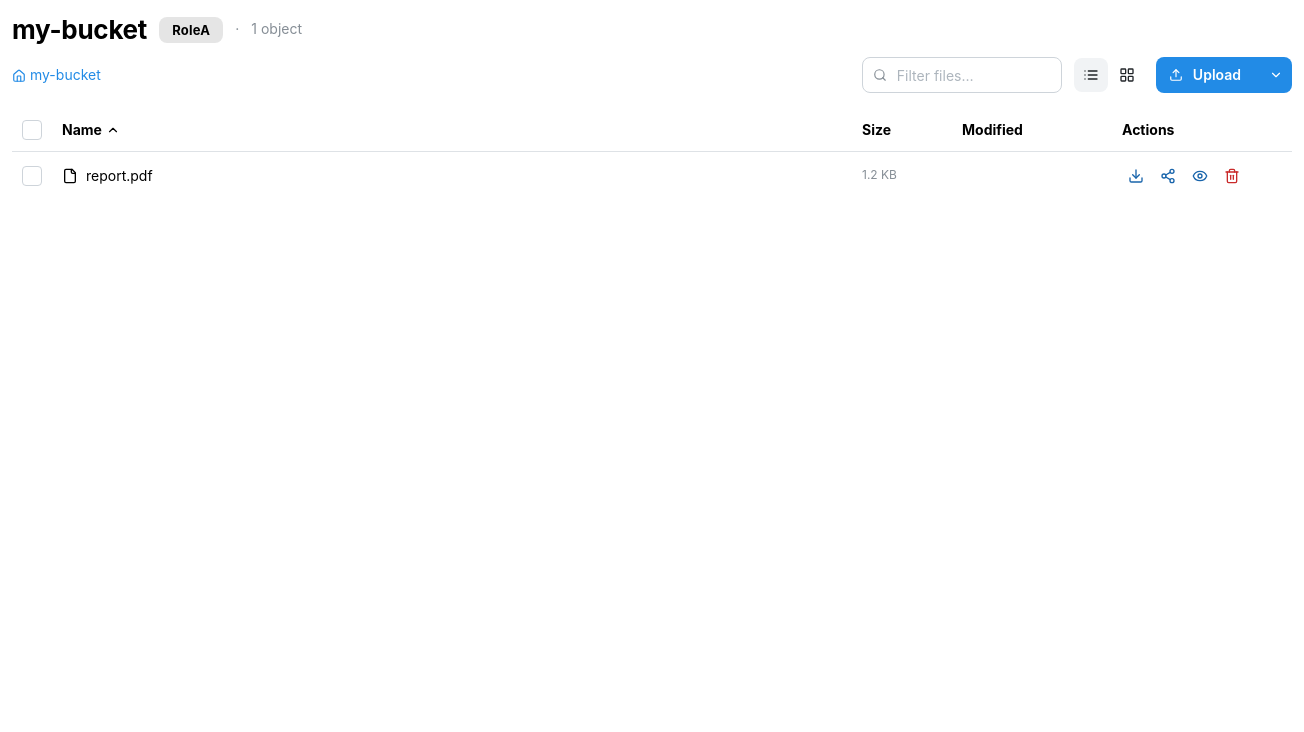
Test: FileBrowser handleDownload › shows a red toast on 403 and does not navigate
The image size is (1304, 732).
Click the button named "download report.pdf": click(1136, 176) [1122, 162, 1150, 190]
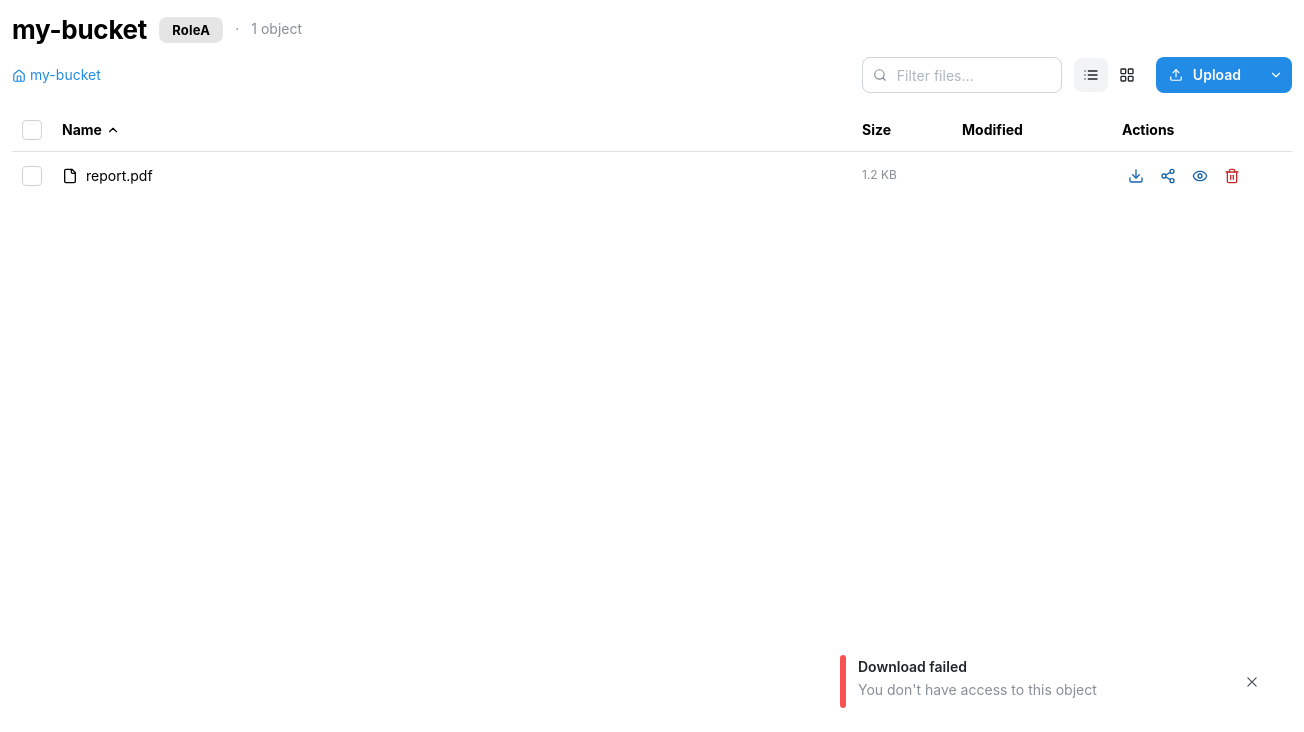
Result: the text "You don't have access to this object" is shown at [858, 681, 1097, 698]
